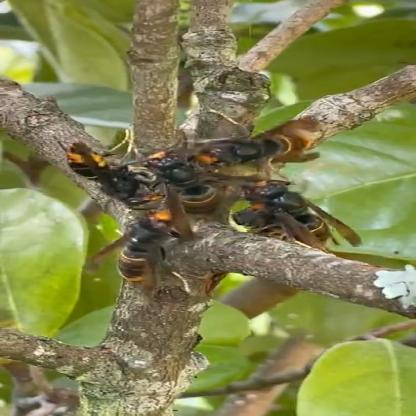bee: (31, 88, 357, 323)
